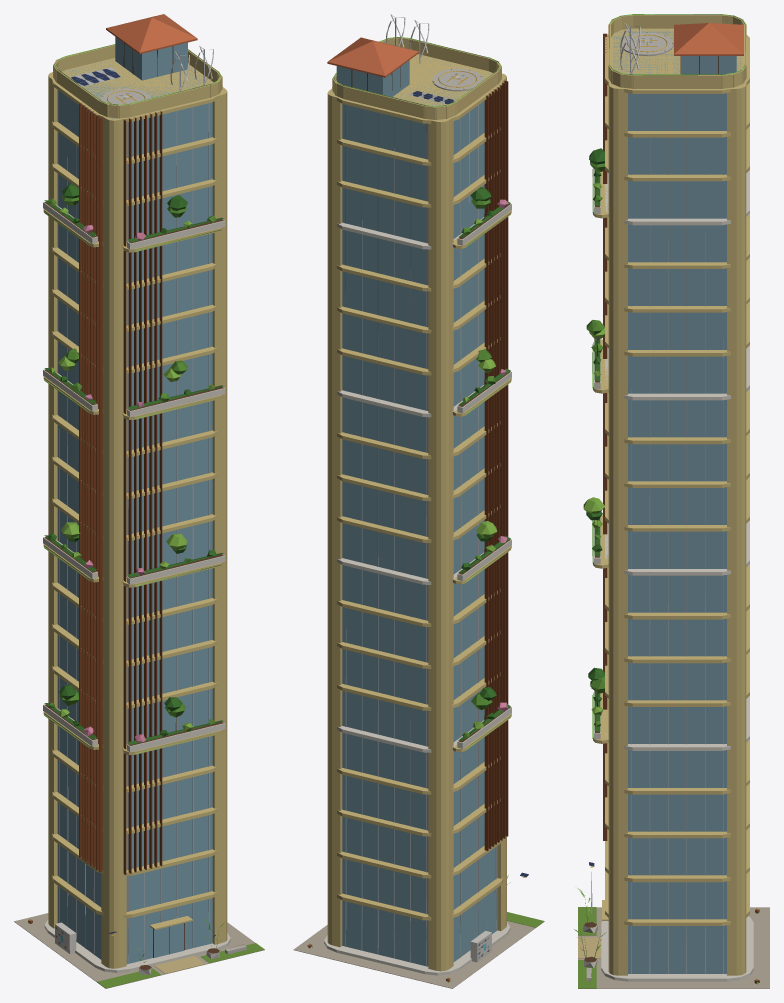
The model's file is shop_4.glb.
3 renders of one model, left to right at view 1: azimuth 30°, elevation 25°; view 2: azimuth 150°, elevation 25°; view 3: azimuth 270°, elevation 25°, orthographic. The views are drawn at different scales.
Parts seen in each view (by area): view 1: body, windows; view 2: body, windows; view 3: body, windows.
Boxes of the visible parts, box(x1,y1,x2,y2) form: body: box(14, 14, 264, 988); windows: box(43, 44, 221, 942); body: box(293, 14, 544, 988); windows: box(333, 37, 525, 950); body: box(574, 15, 769, 988); windows: box(590, 14, 745, 867).
Size of the model in its own units: 15.9 by 86.18 by 16.3.
